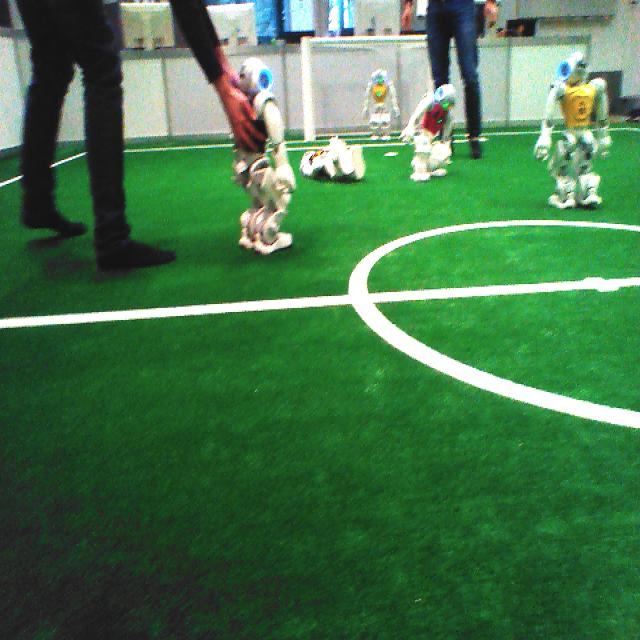goalpost: (301, 36, 315, 140)
